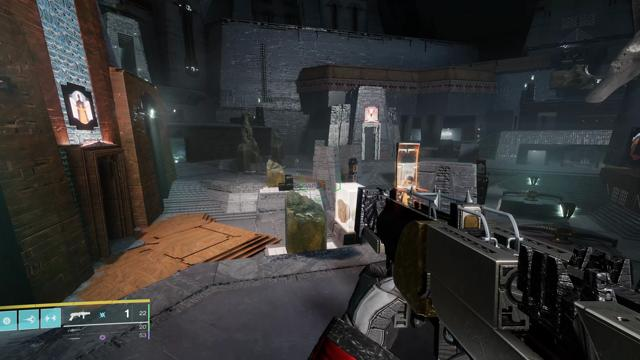give: (366, 109, 376, 119)
pyramid: (629, 133, 640, 160)
worship: (69, 90, 93, 124)
